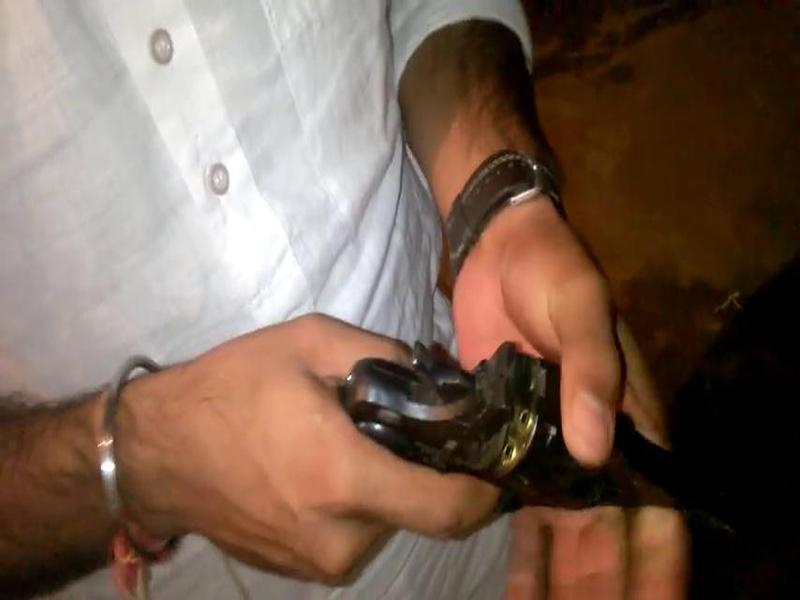Revolver: (313, 324, 799, 576)
